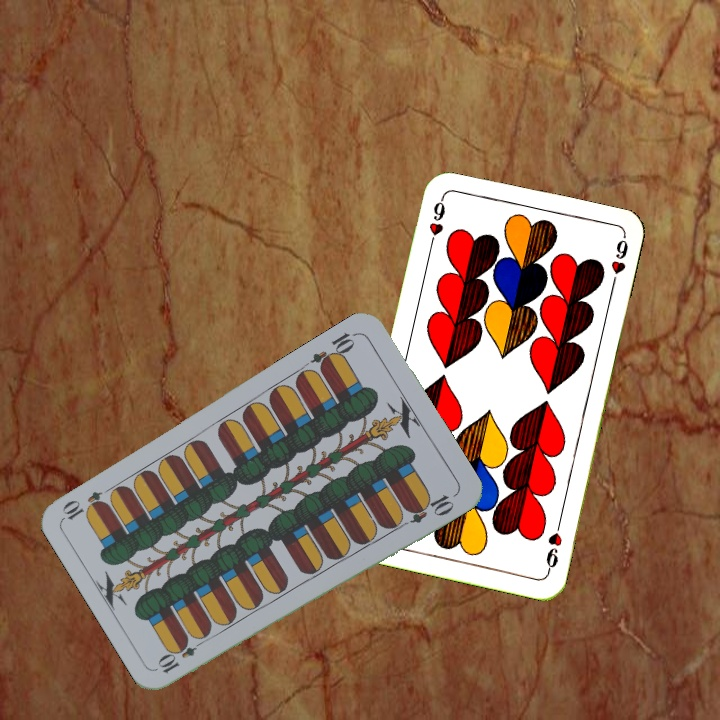E10: (307, 328, 360, 374), (154, 633, 208, 676)
H9: (542, 517, 565, 576), (425, 193, 448, 252)
